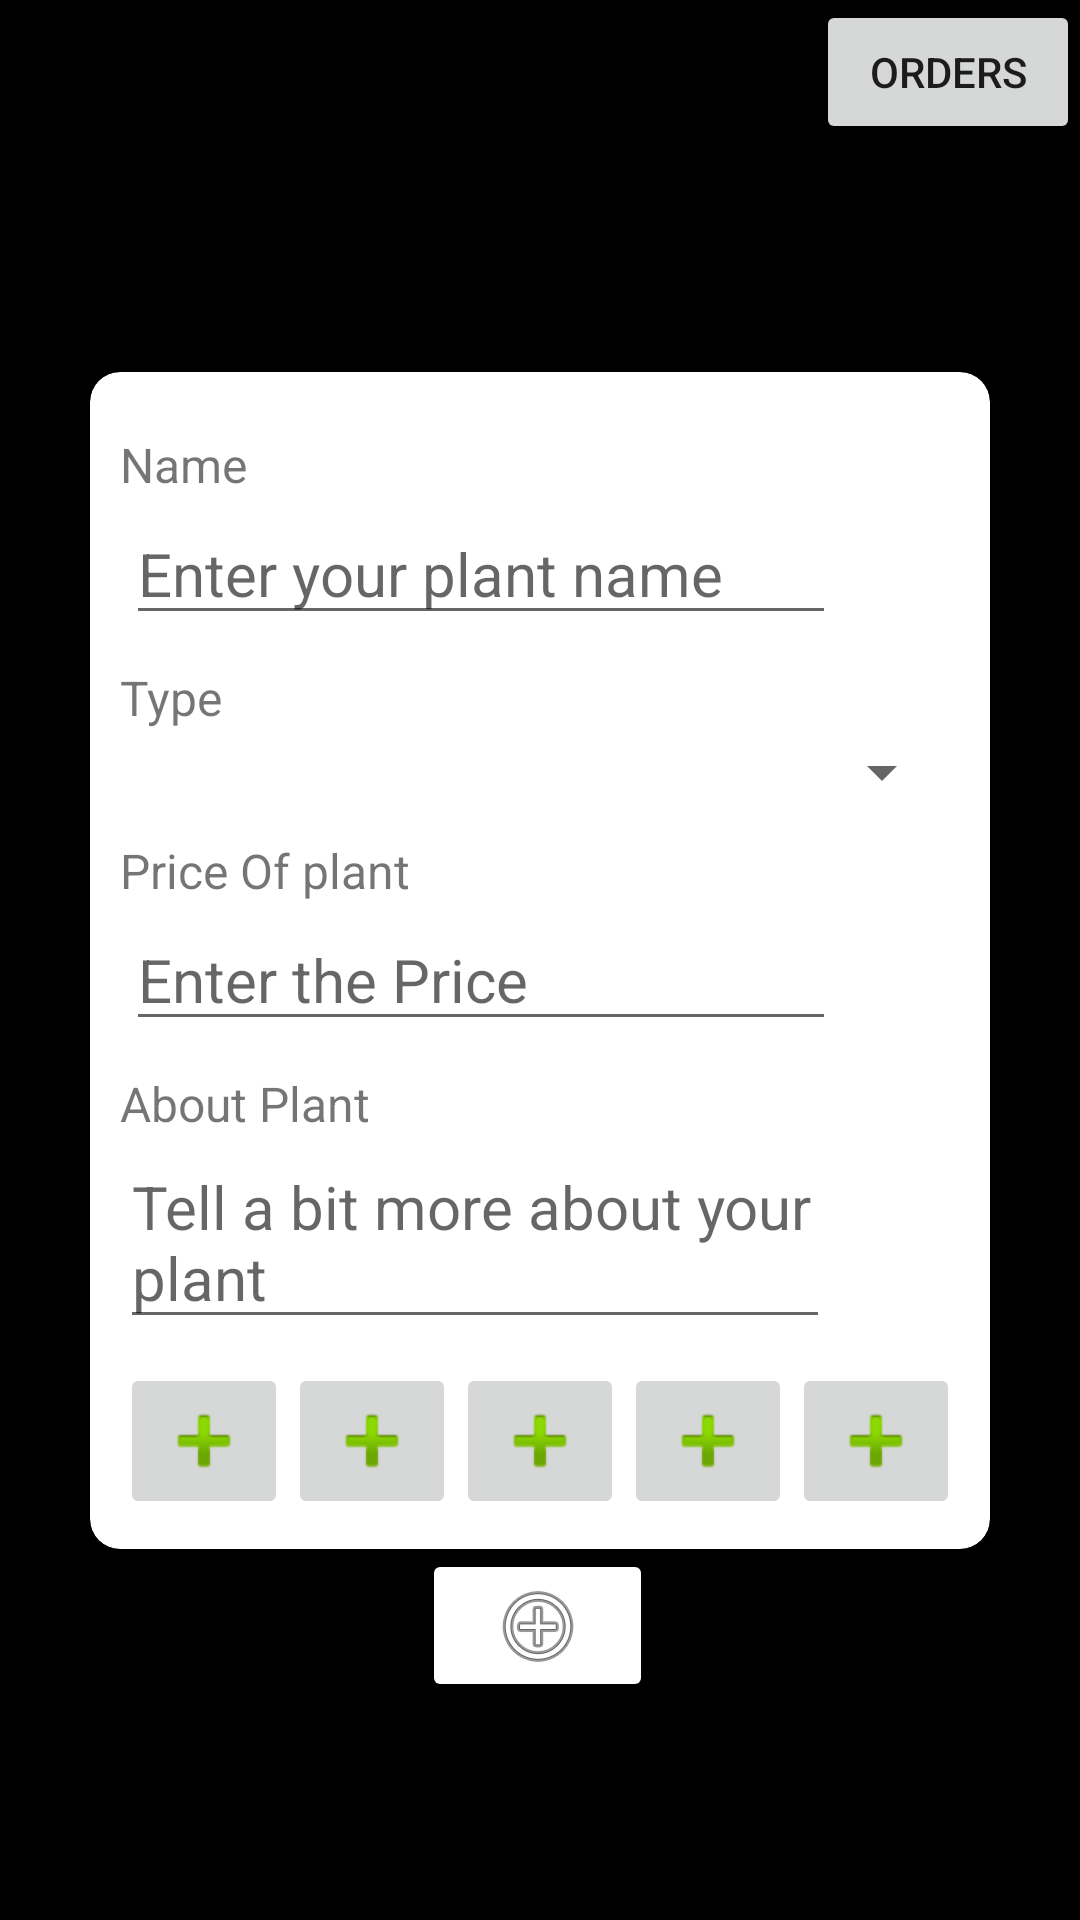

Named icons in this screenshot (1080*1920) and their bounding boxes, (x1=x1, y1=y1, x2=x2, y2=y2):
add: (x1=132, y1=1381, x2=276, y2=1501), (x1=300, y1=1381, x2=444, y2=1501), (x1=468, y1=1381, x2=612, y2=1501), (x1=636, y1=1381, x2=780, y2=1501), (x1=804, y1=1381, x2=948, y2=1501), (x1=434, y1=1567, x2=641, y2=1684)
